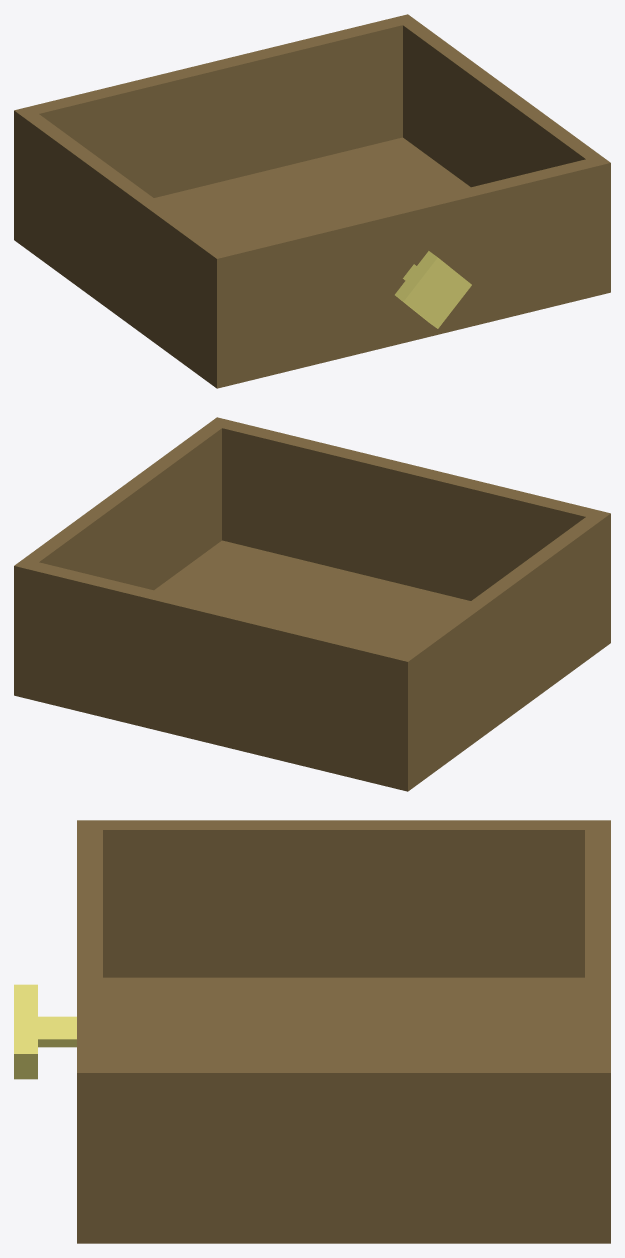
Rendered from Itr_Desk_Drawer_Inside1_01.FBX.
3 renders of one model, top to bottom at view 1: azimuth 30°, elevation 25°; view 2: azimuth 150°, elevation 25°; view 3: azimuth 270°, elevation 25°, orthographic. The views are drawn at different scales.
Visible parts, largest first — view 1: Itr_Desk_Drawer_Inside1_01; view 2: Itr_Desk_Drawer_Inside1_01; view 3: Itr_Desk_Drawer_Inside1_01.
Boxes of the visible parts, x1=… form: Itr_Desk_Drawer_Inside1_01: x1=14, y1=14, x2=610, y2=388; Itr_Desk_Drawer_Inside1_01: x1=14, y1=417, x2=610, y2=791; Itr_Desk_Drawer_Inside1_01: x1=14, y1=820, x2=610, y2=1243.
Bounding box in the file's own units: 14.4 × 4.53 × 14.37.
